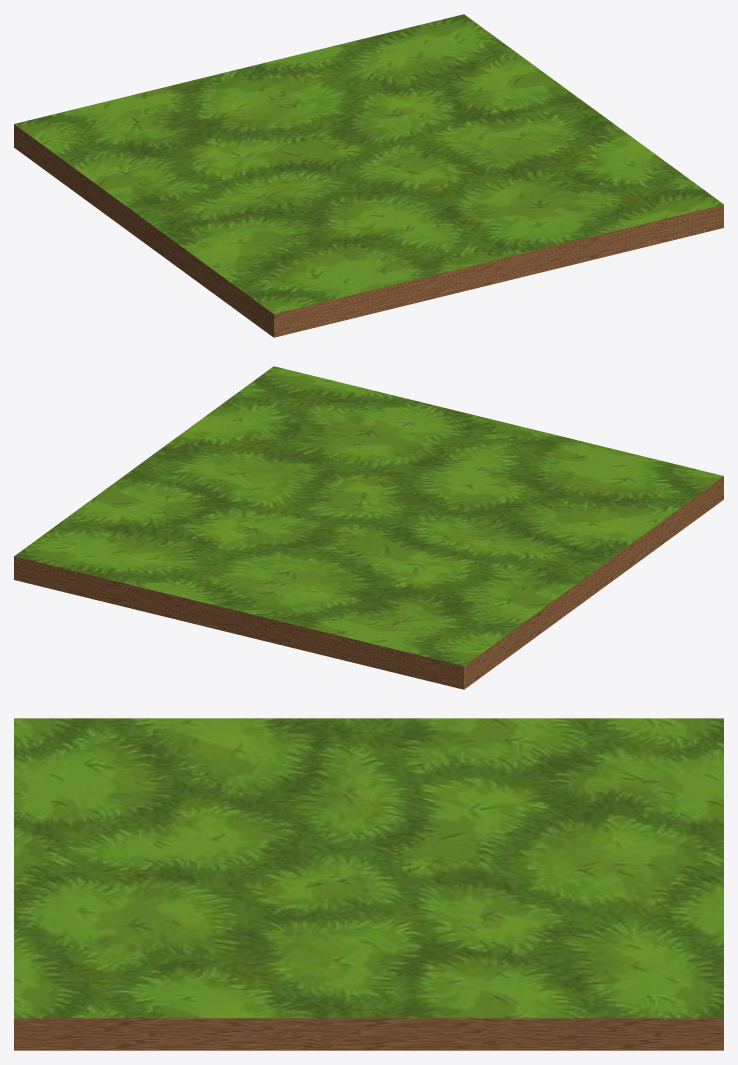
Rendered from Surface_NoSides.fbx.
3 renders of one model, top to bottom at view 1: azimuth 30°, elevation 25°; view 2: azimuth 150°, elevation 25°; view 3: azimuth 270°, elevation 25°, orthographic. The views are drawn at different scales.
Parts seen in each view (by area): view 1: Surface_NoSides; view 2: Surface_NoSides; view 3: Surface_NoSides.
Part boxes in pixels (x1,y1,x2,y2): Surface_NoSides: (14,14,723,337); Surface_NoSides: (14,366,723,689); Surface_NoSides: (14,718,723,1050).
Bounding box in the file's own units: 8 × 0.4 × 8.
